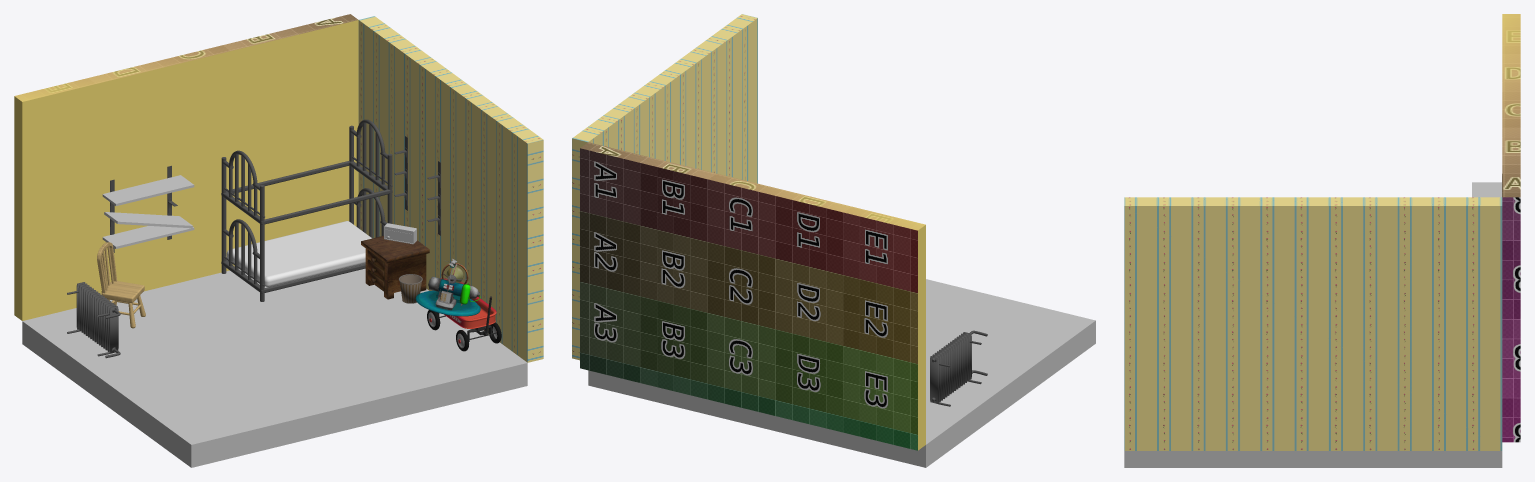
Rendered from room.fbx.
3 renders of one model, left to right at view 1: azimuth 30°, elevation 25°; view 2: azimuth 150°, elevation 25°; view 3: azimuth 270°, elevation 25°, orthographic. The views are drawn at different scales.
Parts seen in each view (by area): view 1: Left Wall, Floor, Right Wall, Bed, Mattress, Dresser, Radiators, Machine, Chair, Wagon, Left Shelf 1, Left Shelf 3 (+4 smaller); view 2: Left Wall, Floor, Right Wall, Radiators; view 3: Right Wall, Left Wall, Floor, Left Shelf 1.
Boxes of the visible parts, x1,y1,x2,y2 form: Left Wall: (14,14,358,320); Floor: (22,268,527,467); Right Wall: (358,16,543,362); Bed: (221,119,392,301); Mattress: (226,221,371,287); Dresser: (361,235,429,299); Radiators: (67,282,120,358); Machine: (415,258,480,316); Chair: (97,242,145,328); Wagon: (427,296,501,351); Left Shelf 1: (102,175,194,205); Left Shelf 3: (102,226,194,248); Left Wall: (580,142,925,450); Floor: (588,279,1095,467); Right Wall: (572,14,757,360); Radiators: (930,330,987,406); Right Wall: (1124,197,1502,450); Left Wall: (1502,14,1520,442); Floor: (1124,451,1502,467); Left Shelf 1: (1472,182,1501,197).
Bounding box in the file's own units: 900 × 591 × 784.
